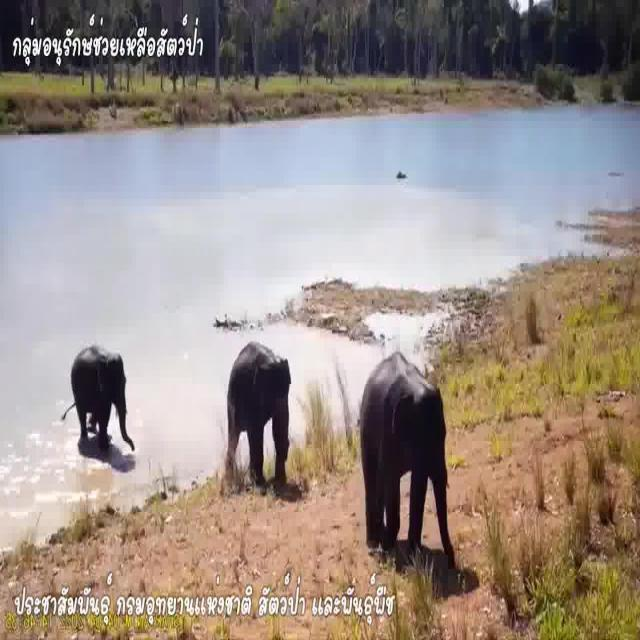Elephant: (358, 346, 462, 538), (224, 334, 292, 474), (71, 337, 132, 442)
